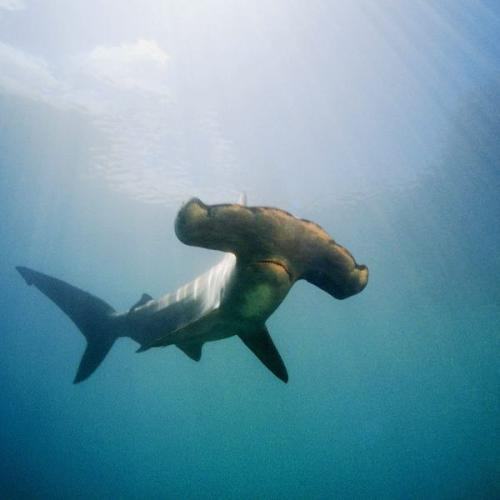shark-endangered: (17, 198, 369, 382)
